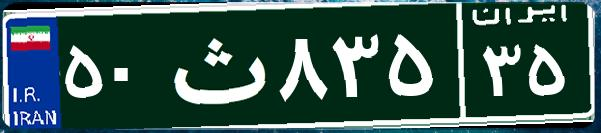0: (110, 28, 158, 105)
3: (330, 28, 385, 110), (475, 38, 525, 113)
5: (385, 28, 445, 110), (57, 26, 110, 107), (525, 38, 570, 115)
8: (273, 28, 330, 110)
ث: (158, 15, 273, 115)
